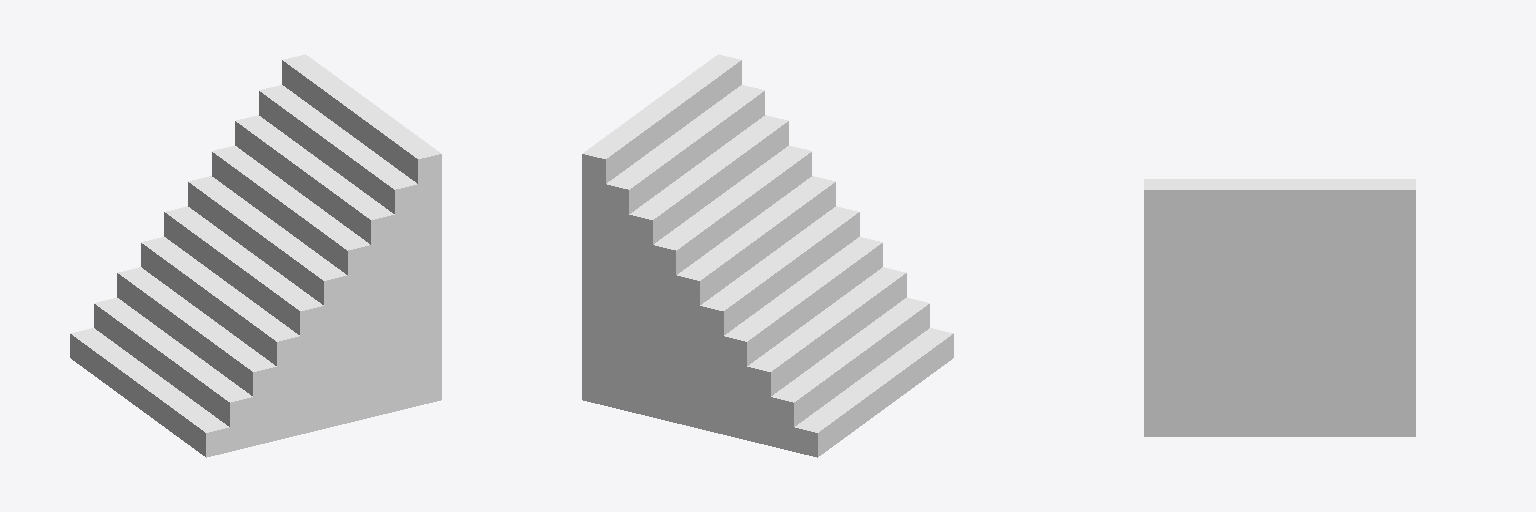
File: Stairs2.2.obj
3 views of the same model, side by side, from view 1: azimuth 30°, elevation 25°; view 2: azimuth 150°, elevation 25°; view 3: azimuth 270°, elevation 25° (orthographic).
Visible parts, largest first — view 1: object 1; view 2: object 1; view 3: object 1.
Part boxes in pixels (x1,y1,x2,y2): object 1: (70, 54, 441, 457); object 1: (582, 54, 953, 457); object 1: (1144, 179, 1415, 436).
Bounding box in the file's own units: 4 × 4 × 4.